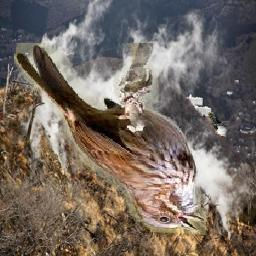Cuckoo: (209, 113, 228, 138)
Sparrow: (14, 43, 208, 235)
